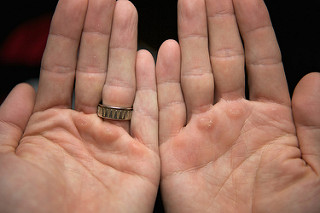palm: (172, 112, 314, 210), (17, 105, 145, 204)
